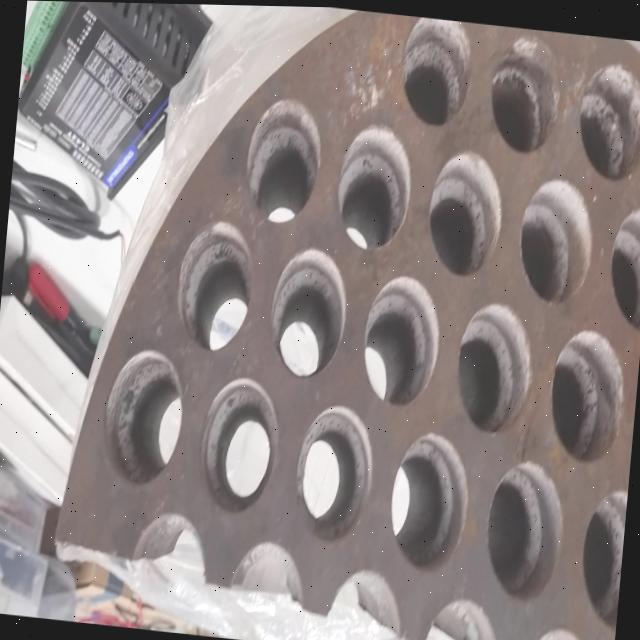Hole: (98, 345, 188, 491), (386, 426, 474, 575), (195, 373, 283, 518), (290, 401, 378, 546), (481, 456, 569, 601), (544, 324, 630, 466), (451, 297, 538, 437), (265, 243, 351, 383), (359, 270, 444, 410), (172, 216, 256, 356), (240, 93, 326, 227), (422, 145, 507, 280), (514, 172, 598, 308), (332, 119, 415, 253), (484, 29, 564, 157), (396, 13, 474, 129), (573, 57, 640, 184), (576, 483, 628, 628), (603, 200, 640, 331)
